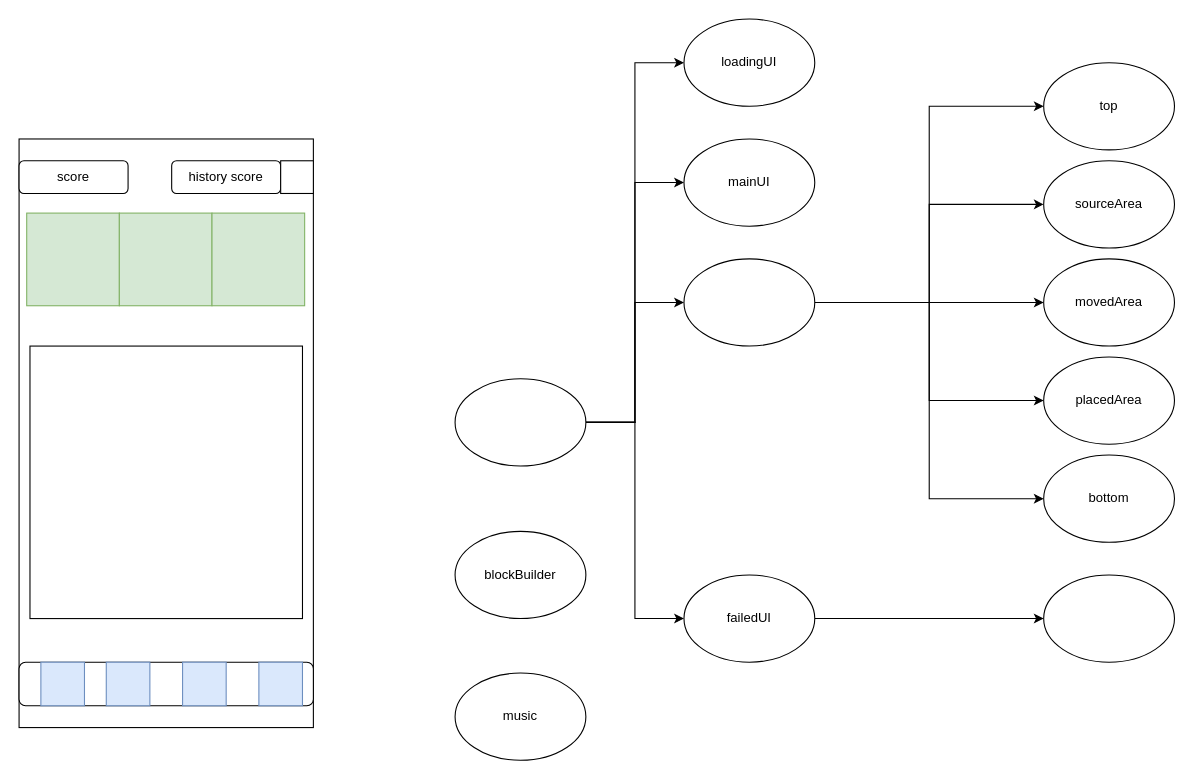
The diagram is 1194 pixels wide and 779 high, and some of its shapes have lost their labels. The centre of each missing label's shape, as x and y in pixels:
btn: pixel 296 176
Canvas: pixel 520 422
gameUI: pixel 749 302
开始游戏: pixel 1108 618
